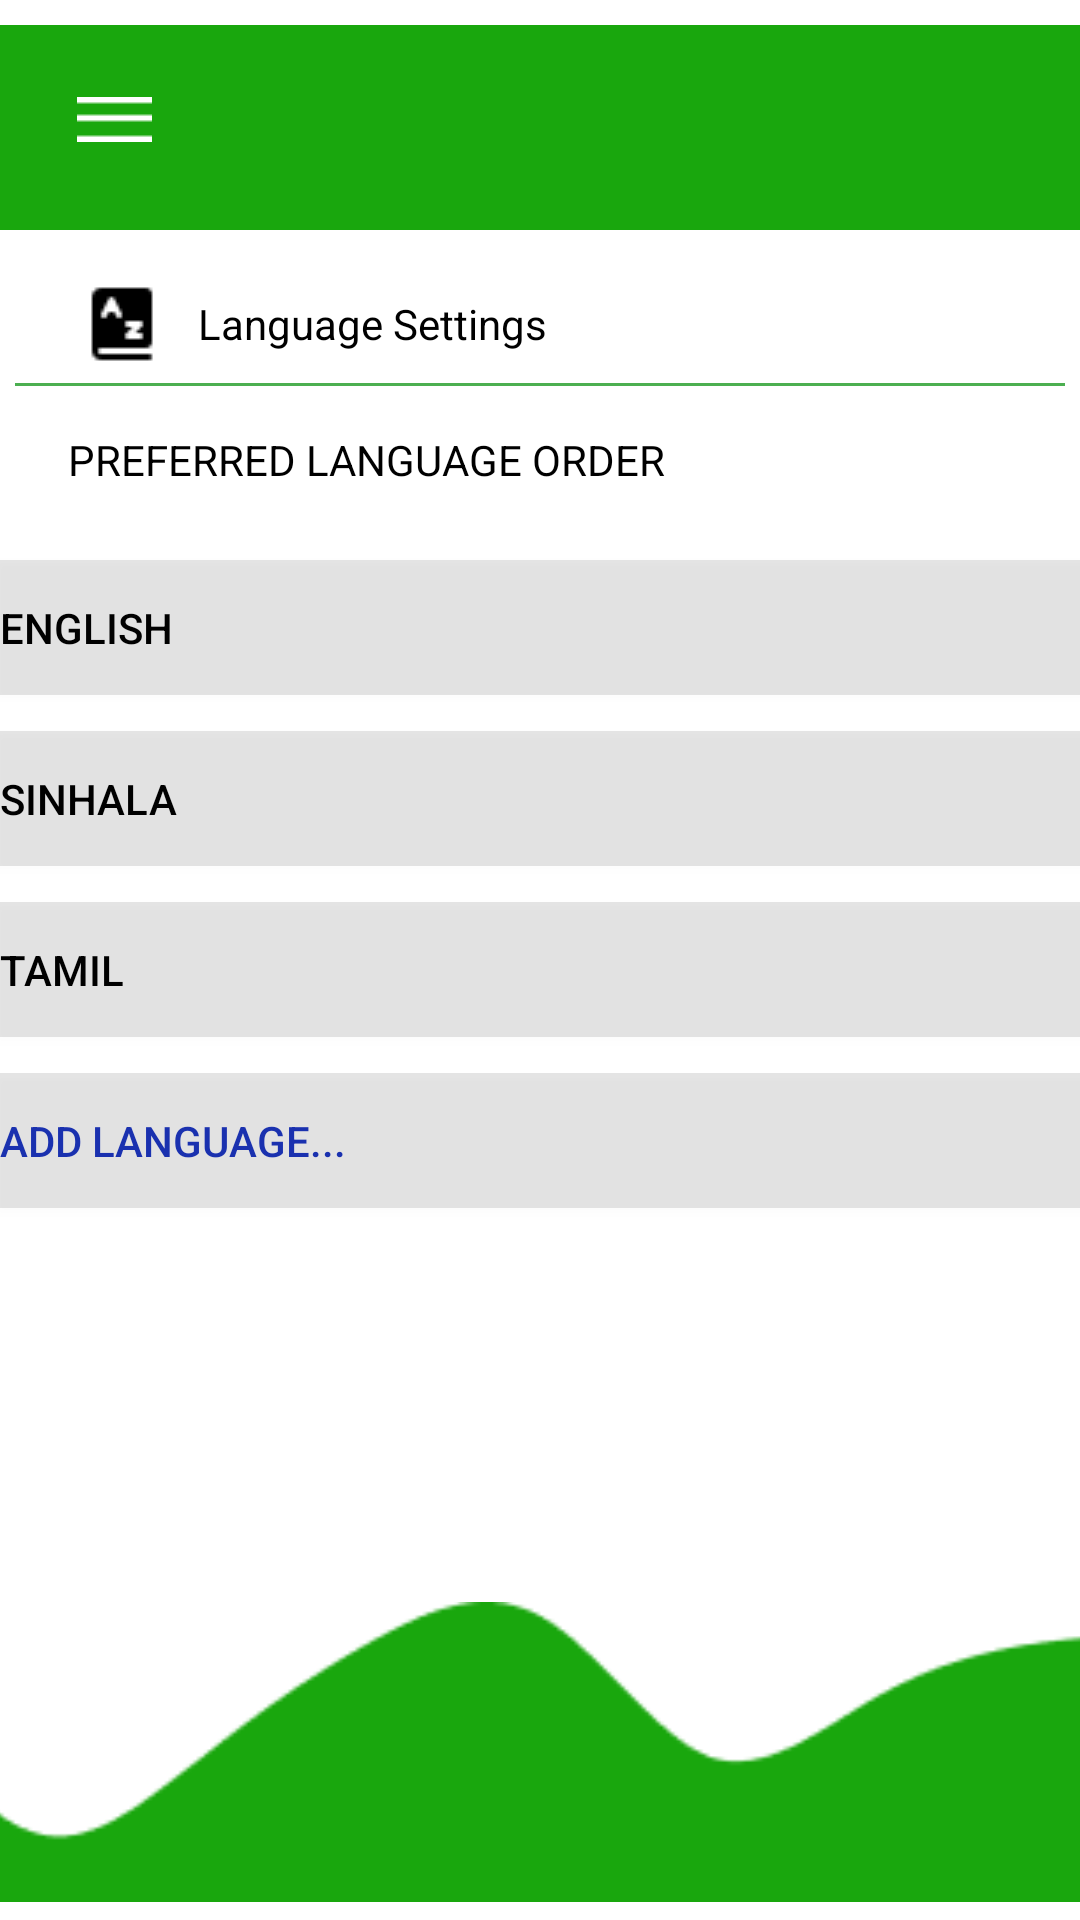

Point at icon controls on the screen. Image size 1080×1920, points as (x,y).
glossary: (122,324)
